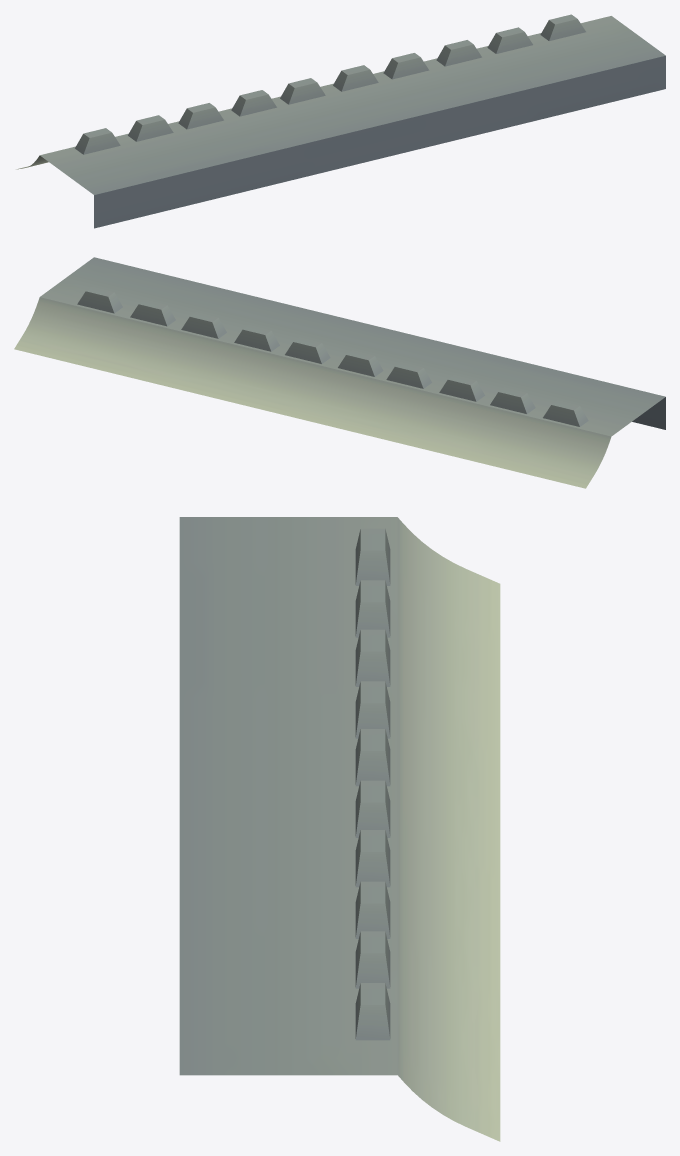
Rendered from Wall.fbx.
3 views of the same model, one above another, from view 1: azimuth 30°, elevation 25°; view 2: azimuth 150°, elevation 25°; view 3: azimuth 270°, elevation 25° (orthographic). The views are drawn at different scales.
Visible parts, largest first — view 1: pCube30, pCube38; view 2: pCube30, pCube38; view 3: pCube30, pCube38.
Boxes of the visible parts, x1=… form: pCube30: x1=16, y1=16, x2=665, y2=228; pCube38: x1=75, y1=14, x2=585, y2=154; pCube30: x1=14, y1=257, x2=665, y2=488; pCube38: x1=77, y1=287, x2=588, y2=426; pCube30: x1=179, y1=517, x2=500, y2=1141; pCube38: x1=355, y1=528, x2=390, y2=1040.
Size of the model in its own units: 1089 by 86.32 by 264.
1 material, 1 textured.
